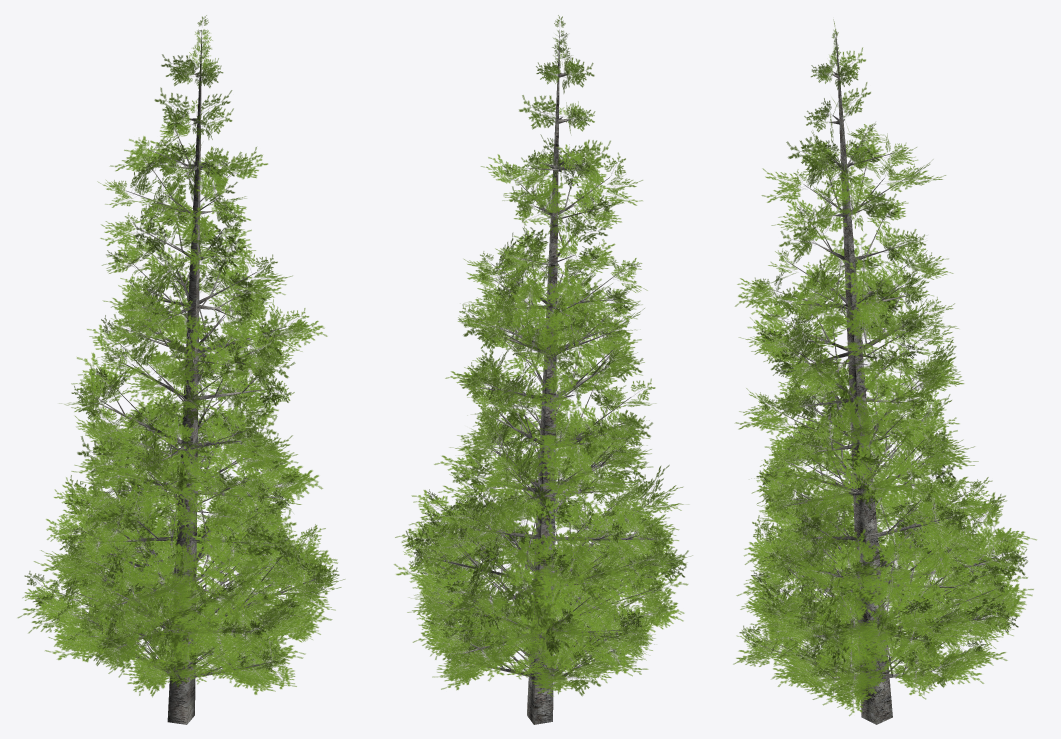
Rendered from tree.glb.
3 views of the same model, side by side, from view 1: azimuth 30°, elevation 25°; view 2: azimuth 150°, elevation 25°; view 3: azimuth 270°, elevation 25° (orthographic). The views are drawn at different scales.
Visible parts, largest first — view 1: Low Poly Evergreen Tree Short 3; view 2: Low Poly Evergreen Tree Short 3; view 3: Low Poly Evergreen Tree Short 3.
Part boxes in pixels (x1=…): Low Poly Evergreen Tree Short 3: x1=17, y1=15, x2=345, y2=724; Low Poly Evergreen Tree Short 3: x1=394, y1=15, x2=692, y2=724; Low Poly Evergreen Tree Short 3: x1=733, y1=19, x2=1036, y2=724.
Size of the model in its own units: 7.08 by 17.57 by 7.18.
Materials: 2 (2 with a texture image).
